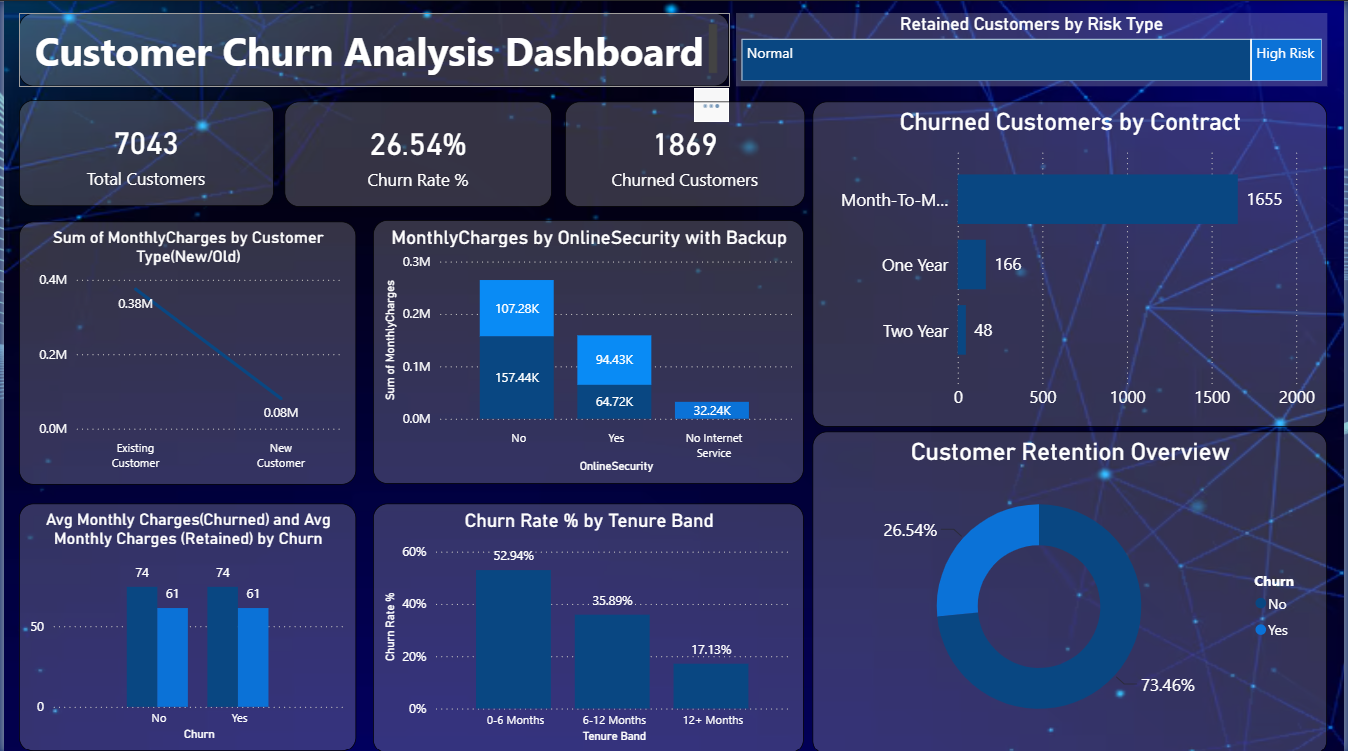

This screenshot's page, from the dashboard's own definition file:
{"tool":"powerbi","page":{"name":"Dashboard","canvas":[1280,720],"ordinal":0},"visuals":[{"type":"textbox","box":[14.6,11.4,678.3,69.9],"z":0},{"type":"treemap","fields":{"Values":["Calculated Measure.Retained Customers"],"Group":["Telecom Churn Dataset.Risk Type"]},"box":[699.4,11.4,564.4,69.9],"z":1000},{"type":"card","fields":{"Values":["Calculated Measure.Total Customers"]},"box":[14.2,95.2,243,101.3],"z":2000},{"type":"card","fields":{"Values":["Calculated Measure.Churned Customers"]},"box":[535.1,96,229.3,100.8],"z":3000},{"type":"card","fields":{"Values":["Calculated Measure.Churn Rate %"]},"box":[268.4,96,255.4,100.8],"z":4000},{"type":"donutChart","title":"Customer Retention Overview","fields":{"Y":["Calculated Measure.Total Customers"],"Category":["Telecom Churn Dataset.Churn"]},"box":[772.6,411.5,491.2,309],"z":5000},{"type":"barChart","fields":{"Y":["Calculated Measure.Churned Customers"],"Category":["Telecom Churn Dataset.Contract"]},"box":[772.6,96,491.2,310.7],"z":6000},{"type":"columnChart","title":"MonthlyCharges by OnlineSecurity with Backup","fields":{"Category":["Telecom Churn Dataset.OnlineSecurity"],"Y":["Sum(Telecom Churn Dataset.MonthlyCharges)"],"Series":["Telecom Churn Dataset.OnlineBackup"]},"box":[353,209.8,411.5,252.1],"z":7000},{"type":"columnChart","fields":{"Category":["Telecom Churn Dataset.Tenure Band"],"Y":["Calculated Measure.Churn Rate %"]},"box":[353,479.8,411.5,239.1],"z":8000},{"type":"clusteredColumnChart","fields":{"Y":["Calculated Measure.Avg Monthly Charges(Churned)","Calculated Measure.Avg Monthly Charges (Retained)"],"Category":["Telecom Churn Dataset.Churn"]},"box":[14.6,479.8,322.1,237.5],"z":9000},{"type":"lineChart","fields":{"Y":["Sum(Telecom Churn Dataset.MonthlyCharges)"],"Category":["Telecom Churn Dataset.Customer Type(New/Old)"]},"box":[14.2,210.6,322,251.1],"z":10000}]}

Visuals, with their boxes in screenshot pixels (x1, y1, x2, y2), scaled from the page's 1280x720 canvas onto the 1348x751 screenshot:
textbox: 15:12:730:85
treemap - Calculated Measure.Retained Customers x Telecom Churn Dataset.Risk Type: 737:12:1331:85
card - Calculated Measure.Total Customers: 15:99:271:205
card - Calculated Measure.Churned Customers: 564:100:805:205
card - Calculated Measure.Churn Rate %: 283:100:552:205
"Customer Retention Overview" donutChart: 814:429:1331:750
barChart - Calculated Measure.Churned Customers x Telecom Churn Dataset.Contract: 814:100:1331:424
"MonthlyCharges by OnlineSecurity with Backup" columnChart: 372:219:805:482
columnChart - Telecom Churn Dataset.Tenure Band x Calculated Measure.Churn Rate %: 372:500:805:750
clusteredColumnChart - Calculated Measure.Avg Monthly Charges(Churned) x Calculated Measure.Avg Monthly Charges (Retained): 15:500:355:748
lineChart - Sum(Telecom Churn Dataset.MonthlyCharges) x Telecom Churn Dataset.Customer Type(New/Old): 15:220:354:482
